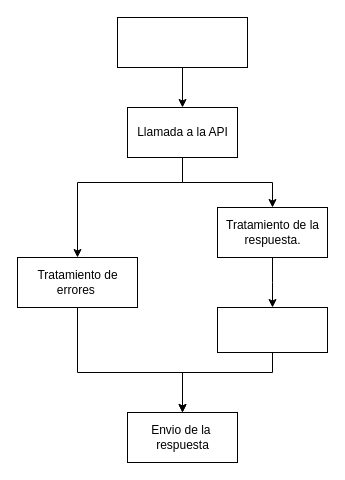
This 345x480 diagram has some shape labels left out. Here are the shapes that lost their labels. From the top down, the centre of each, then its label:
At (x=182, y=42): "Lectura de la entrada".
At (x=272, y=329): "Creación de la respuesta".
